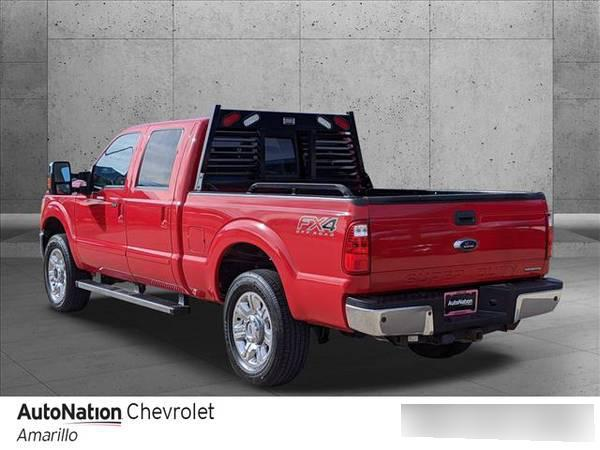Front_Fender: (37, 194, 79, 271)
Front_Left_Door: (67, 188, 129, 284)
Front_Left_Window: (76, 126, 146, 187)
Left_Taillight: (342, 219, 367, 275)
Rear_Bumper: (345, 275, 567, 343)
Rear_Fender: (177, 193, 370, 328)
Rear_Left_Door: (118, 188, 185, 295)
Rear_Left_Window: (127, 121, 202, 190)
Rear_Windshield: (187, 116, 377, 194)
Tailgate: (370, 193, 551, 292)
Wheel: (221, 267, 309, 384), (39, 235, 91, 312)
